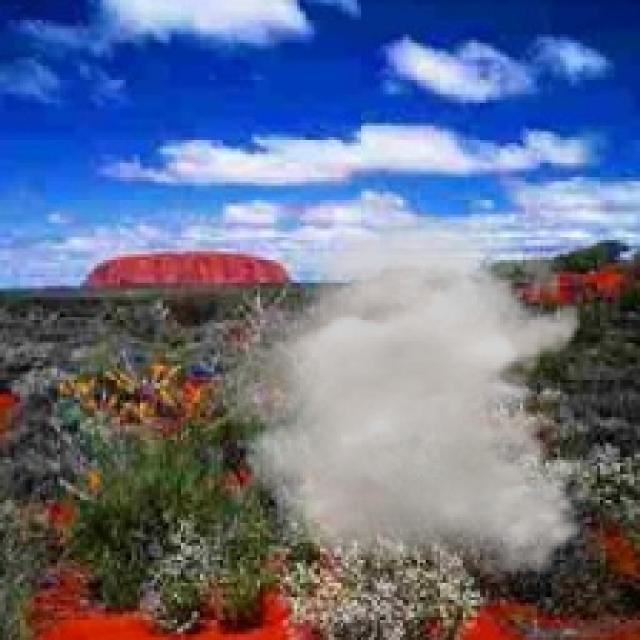Smoke: (194, 214, 597, 577)
